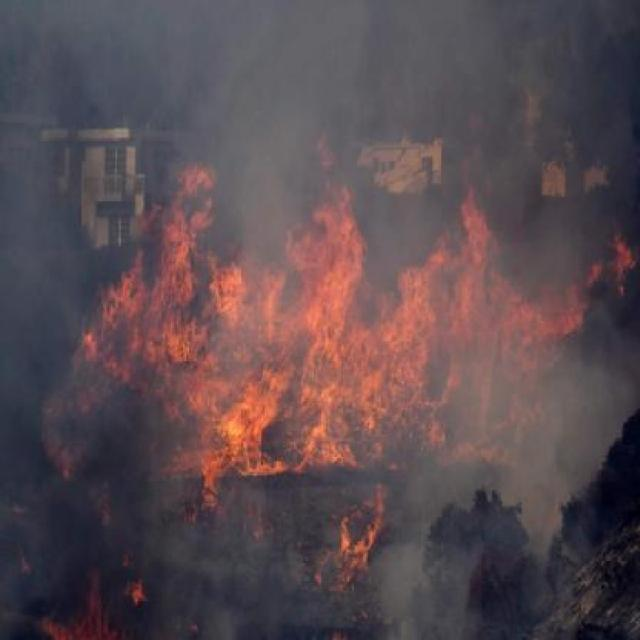Fire: (92, 178, 558, 584)
